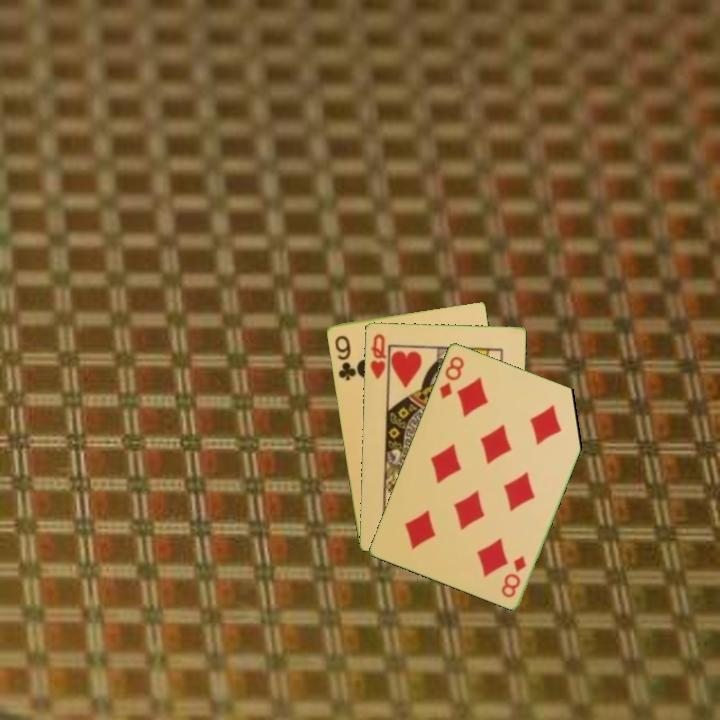8d: (436, 352, 467, 402), (497, 552, 529, 600)
9c: (331, 332, 358, 383)
Qh: (367, 330, 389, 381)
